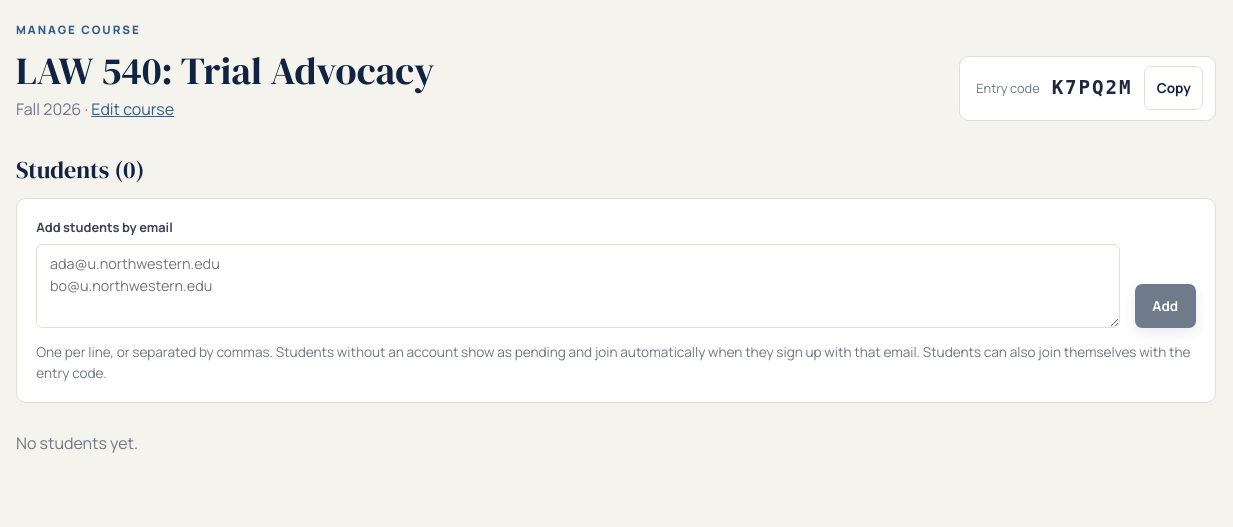
Test: editing and deleting › shows the error if deleting fails
Step 1. Click the button "Edit course" → (133, 109), box 91,97 -> 174,121
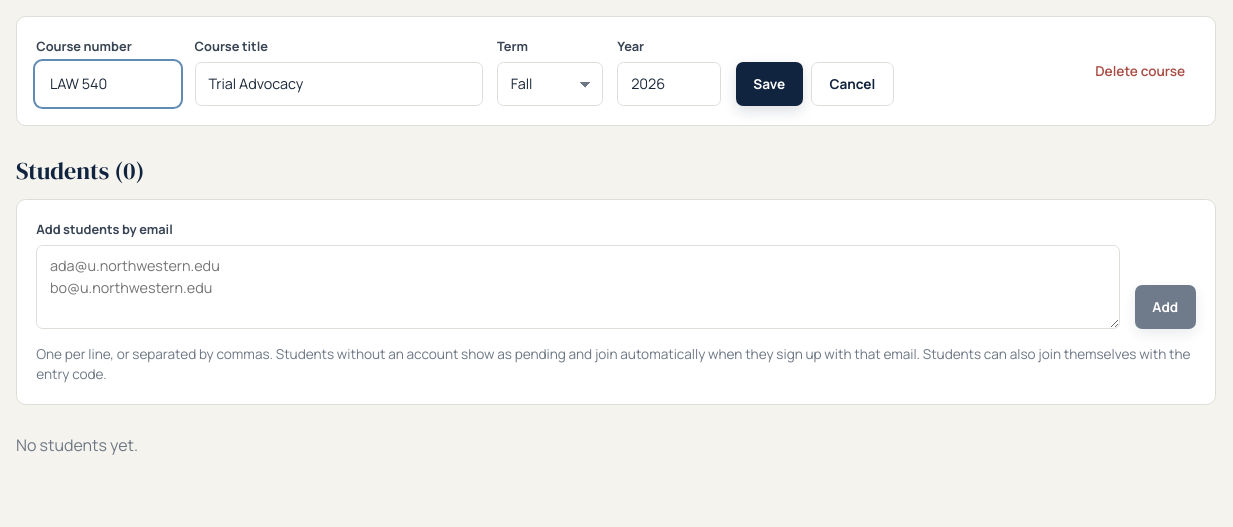
Step 2. Click the button "Delete course" → (1140, 71), box 1085,55 -> 1196,87
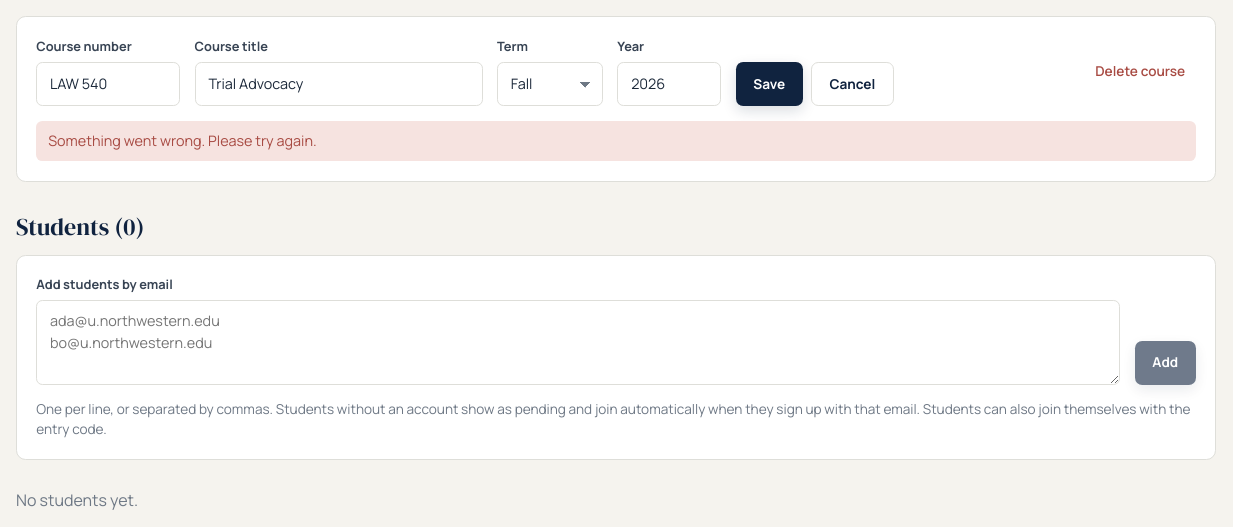
expect the button "Delete course" is enabled: met, box 1085,55 -> 1196,87
expect the message shows "Something went wrong.": met, box 48,131 -> 317,150
